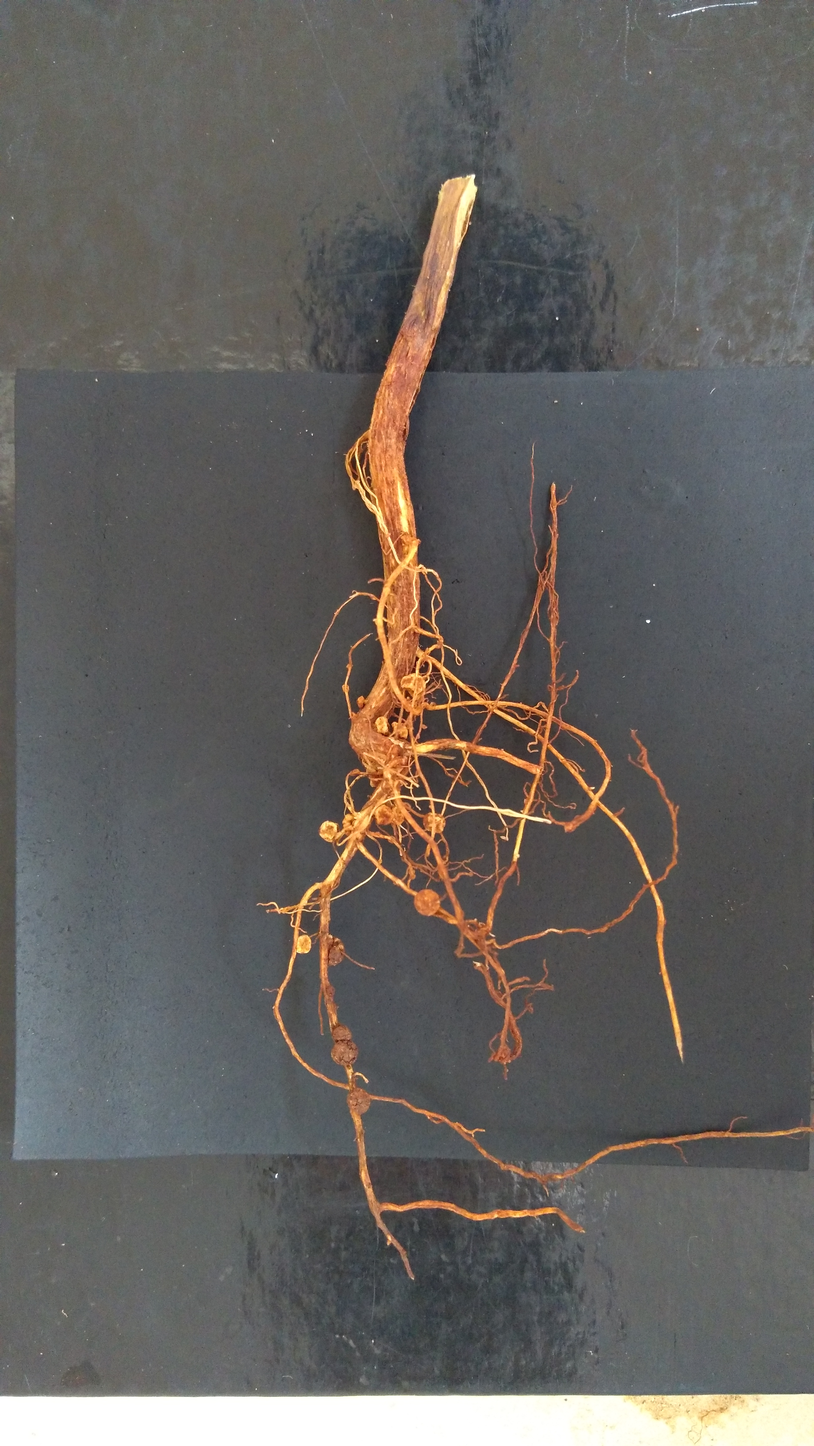nodule: (341, 812, 371, 841), (414, 889, 442, 917), (330, 1039, 358, 1066), (400, 672, 426, 701), (380, 755, 408, 780), (346, 1086, 370, 1115), (317, 819, 342, 844), (326, 935, 346, 966), (365, 760, 386, 788), (423, 811, 445, 834), (375, 803, 394, 825), (331, 1022, 351, 1041), (400, 531, 421, 548), (374, 716, 391, 737), (391, 721, 409, 740), (296, 933, 312, 954), (496, 1042, 511, 1064), (391, 805, 404, 824), (356, 696, 365, 710), (325, 985, 336, 996), (349, 768, 360, 777), (436, 637, 444, 648), (387, 835, 396, 844), (341, 683, 349, 691), (421, 724, 427, 730), (346, 663, 353, 668), (406, 696, 410, 701)
